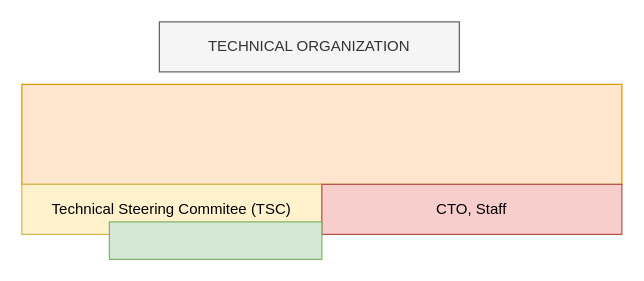
Image size: 644x281. Some labels were removed from this diagram. The box of each missing label's shape, as (x1, y1, x2, y2) in pixels:
Architecture Profiles: (108, 221, 322, 259)
ΒOARD OF DIRECTORS(BoD): (21, 83, 622, 184)
